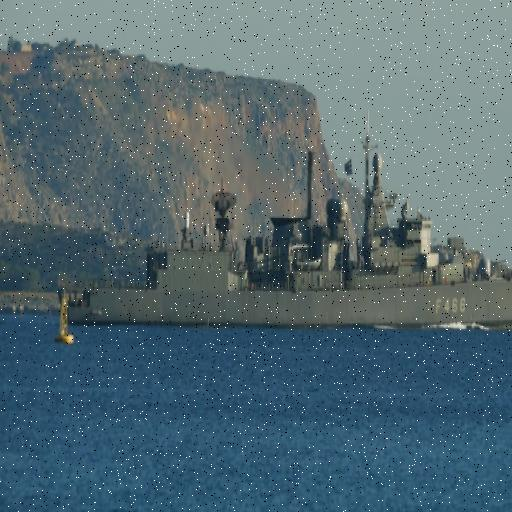Fragata: (59, 102, 512, 337)
